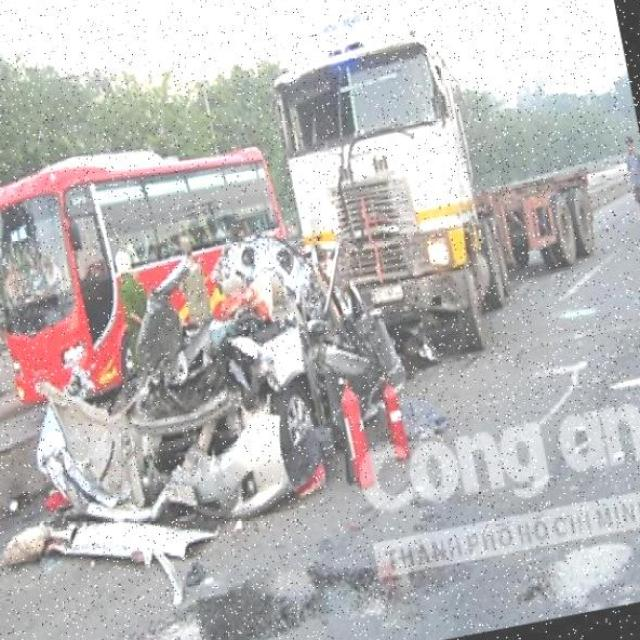accident: (0, 167, 492, 578)
